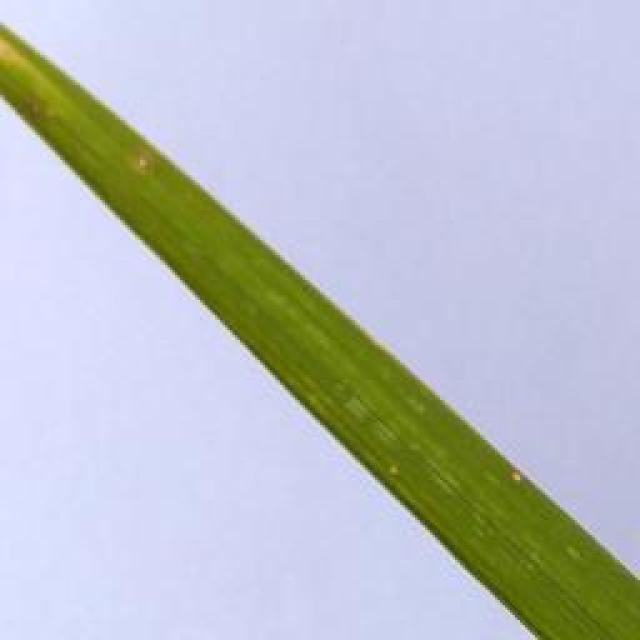Unhealthy: (0, 34, 53, 81), (135, 149, 153, 177), (510, 469, 521, 482)
